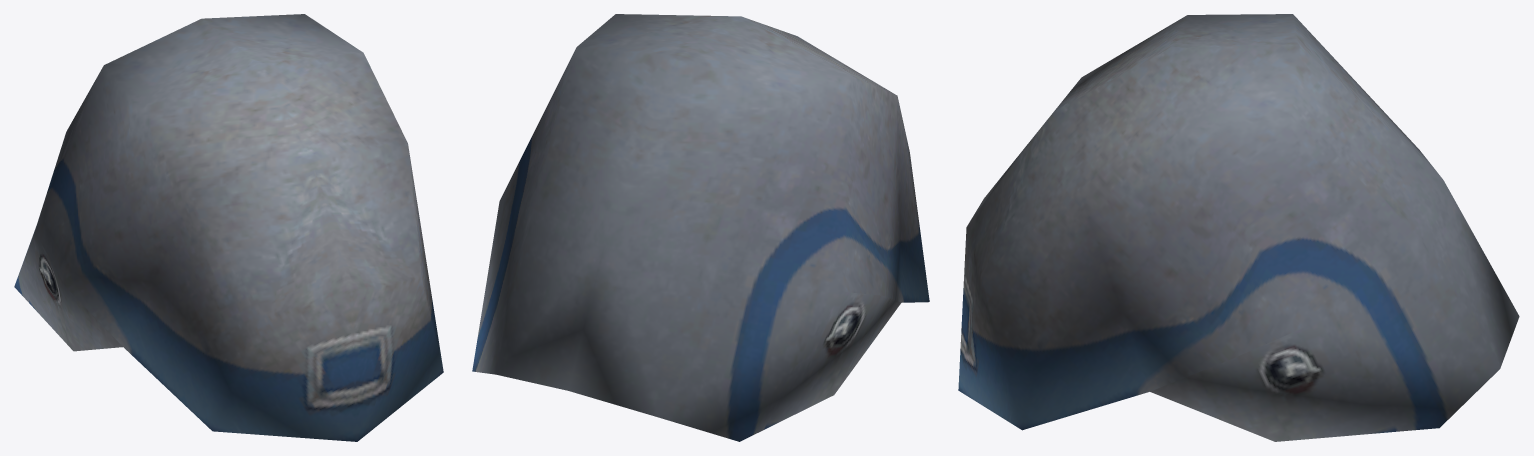
File: Helmet4__LED.glb
3 renders of one model, left to right at view 1: azimuth 30°, elevation 25°; view 2: azimuth 150°, elevation 25°; view 3: azimuth 270°, elevation 25°, orthographic. The views are drawn at different scales.
Visible parts, largest first — view 1: Helmet4; view 2: Helmet4; view 3: Helmet4.
Boxes of the visible parts, bbox=[...] form: Helmet4: bbox=[14, 14, 443, 441]; Helmet4: bbox=[472, 14, 929, 441]; Helmet4: bbox=[958, 14, 1519, 441].
Size of the model in its own units: 12.19 by 10.84 by 16.01.
1 material, 1 textured.
